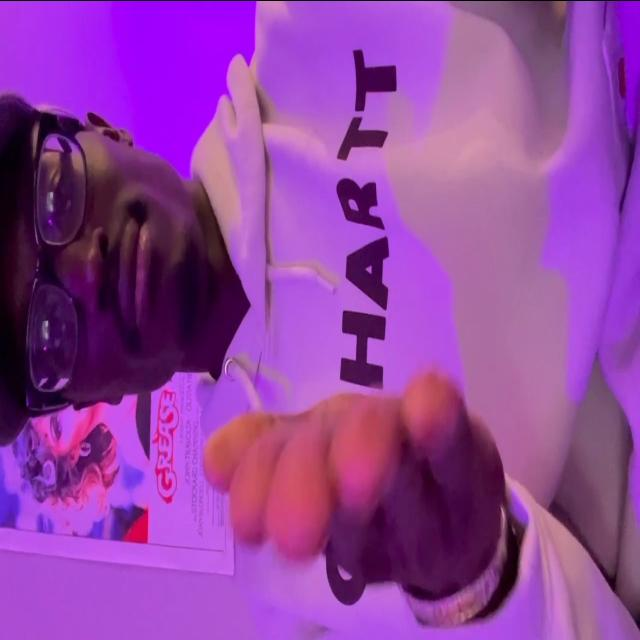Paper: (202, 370, 509, 596)
